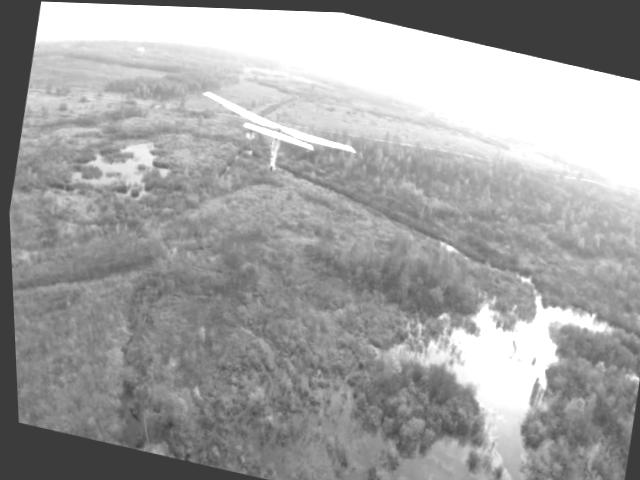hedef: (174, 74, 369, 194)
